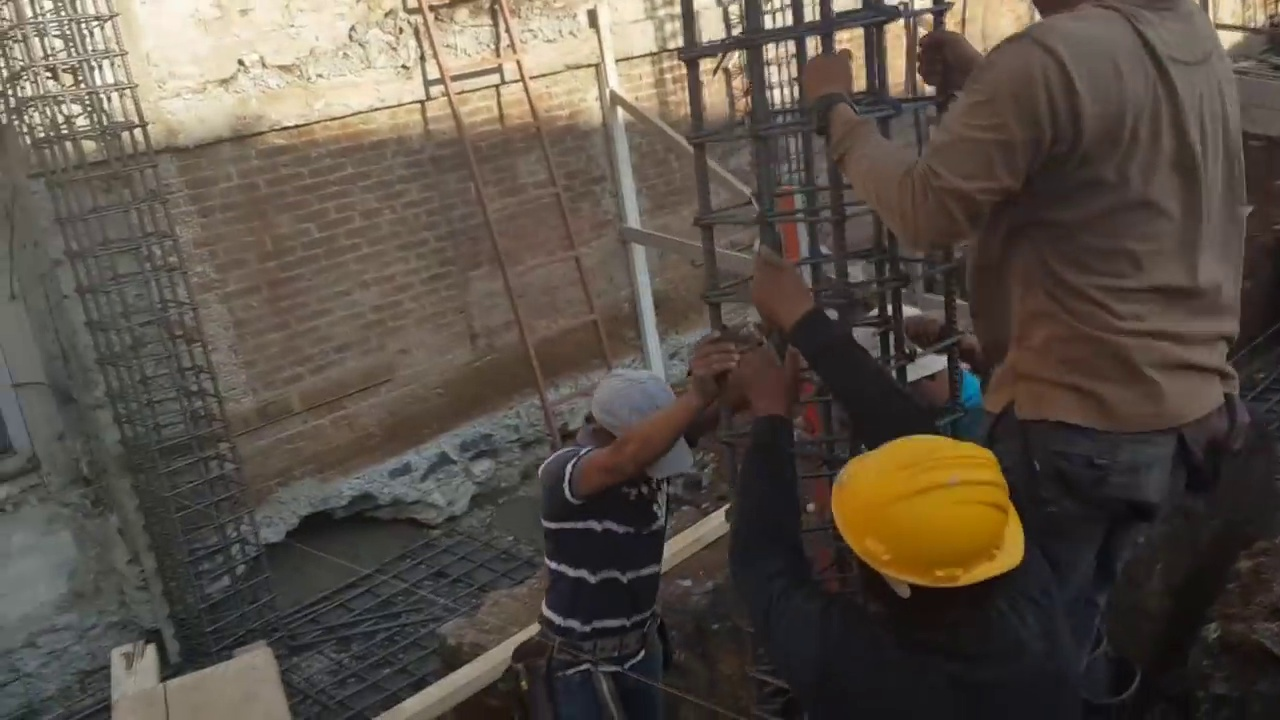helmet: (823, 431, 1020, 604)
helmet-off: (841, 296, 993, 422), (575, 375, 712, 497)
helmet-on: (818, 420, 1041, 629)
person: (841, 0, 1249, 644), (722, 274, 1101, 717), (534, 351, 735, 718)
